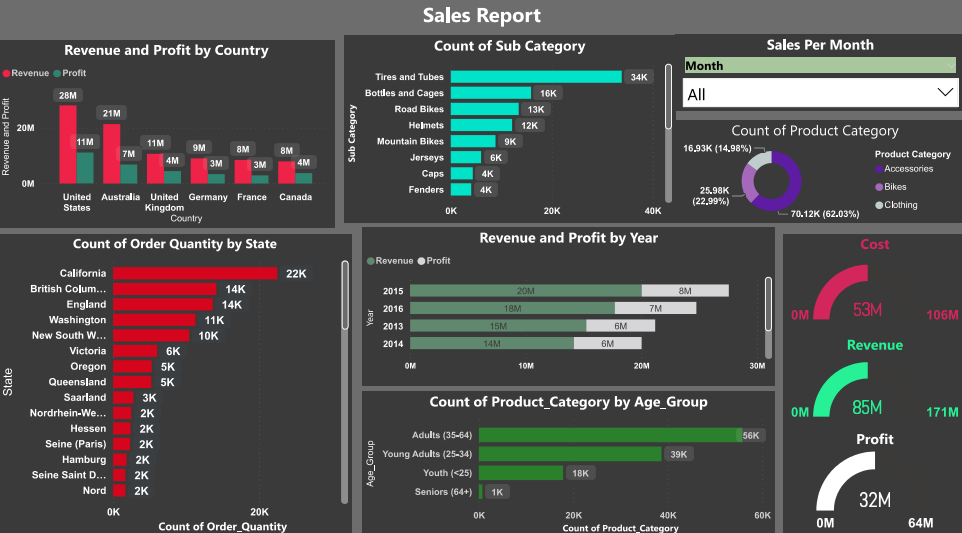

The page's visual inventory and layout, read from the dashboard file:
{"tool":"powerbi","page":{"name":"Page 1","canvas":[1280,720],"ordinal":0},"visuals":[{"type":"clusteredColumnChart","fields":{"Category":["Bike Sales.Country"],"Y":["Sum(Bike Sales.Revenue)","Sum(Bike Sales.Profit)"]},"box":[0,62.4,445,248],"z":0},{"type":"barChart","title":"Count of Order Quantity by State","fields":{"Category":["Bike Sales.State"],"Y":["CountNonNull(Bike Sales.Order_Quantity)"]},"box":[0,318.9,467.7,401.1],"z":1000},{"type":"barChart","fields":{"Category":["Bike Sales.Age_Group"],"Y":["CountNonNull(Bike Sales.Product_Category)"]},"box":[482.4,527,545.8,193],"z":2000},{"type":"barChart","fields":{"Category":["Bike Sales.Year"],"Y":["Sum(Bike Sales.Revenue)","Sum(Bike Sales.Profit)"]},"box":[482.4,311,545.8,208.8],"z":3000},{"type":"gauge","fields":{"Y":["Sum(Bike Sales.Revenue)"]},"box":[1038.2,452.2,241.9,125.3],"z":4000},{"type":"gauge","fields":{"Y":["Sum(Bike Sales.Profit)"]},"box":[1038.2,577.4,241.9,142.6],"z":5000},{"type":"gauge","fields":{"Y":["Sum(Bike Sales.Cost)"]},"box":[1038.2,318.2,241.9,133.9],"z":6000},{"type":"slicer","title":"Sales Per Month","fields":{"Values":["Bike Sales.Month"]},"box":[895.7,55.3,384.1,100.6],"z":7000},{"type":"donutChart","title":"Count of Product Category","fields":{"Category":["Bike Sales.Product_Category"],"Y":["CountNonNull(Bike Sales.Product_Category)"]},"box":[881.6,168.7,398.3,136.1],"z":8000},{"type":"clusteredBarChart","title":"Count of Sub Category ","fields":{"Category":["Bike Sales.Sub_Category"],"Y":["CountNonNull(Bike Sales.Sub_Category)"]},"box":[457.8,56.7,438,248],"z":9000},{"type":"shape","title":"Sales Report","box":[0,9.9,1279.8,35.4],"z":10000}]}

Visuals, with their boxes in screenshot pixels (x1, y1, x2, y2), scaled from the page's 1280x720 canvas onto the 962x533 screenshot:
clusteredColumnChart - Bike Sales.Country x Sum(Bike Sales.Revenue): left=0, top=46, right=334, bottom=230
"Count of Order Quantity by State" barChart: left=0, top=236, right=352, bottom=532
barChart - Bike Sales.Age_Group x CountNonNull(Bike Sales.Product_Category): left=363, top=390, right=773, bottom=532
barChart - Bike Sales.Year x Sum(Bike Sales.Revenue): left=363, top=230, right=773, bottom=385
gauge - Sum(Bike Sales.Revenue): left=780, top=335, right=961, bottom=428
gauge - Sum(Bike Sales.Profit): left=780, top=427, right=961, bottom=532
gauge - Sum(Bike Sales.Cost): left=780, top=236, right=961, bottom=335
"Sales Per Month" slicer: left=673, top=41, right=961, bottom=115
"Count of Product Category" donutChart: left=663, top=125, right=961, bottom=226
"Count of Sub Category " clusteredBarChart: left=344, top=42, right=673, bottom=226
"Sales Report" shape: left=0, top=7, right=961, bottom=34
